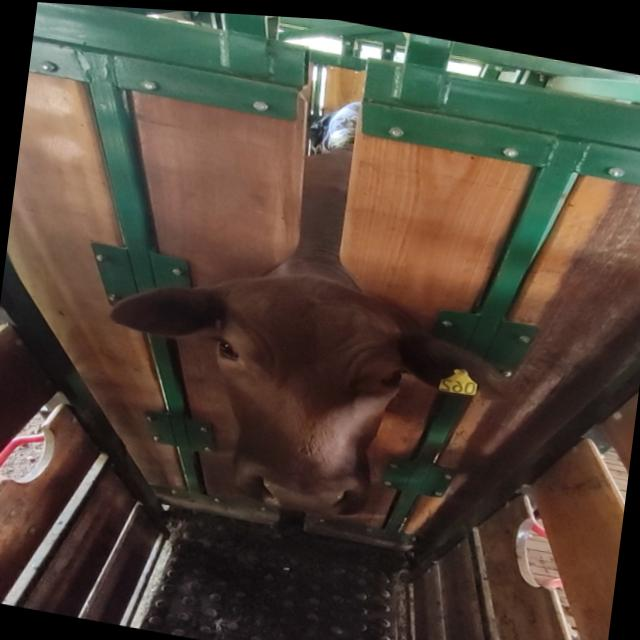cowFace: (196, 258, 417, 525)
